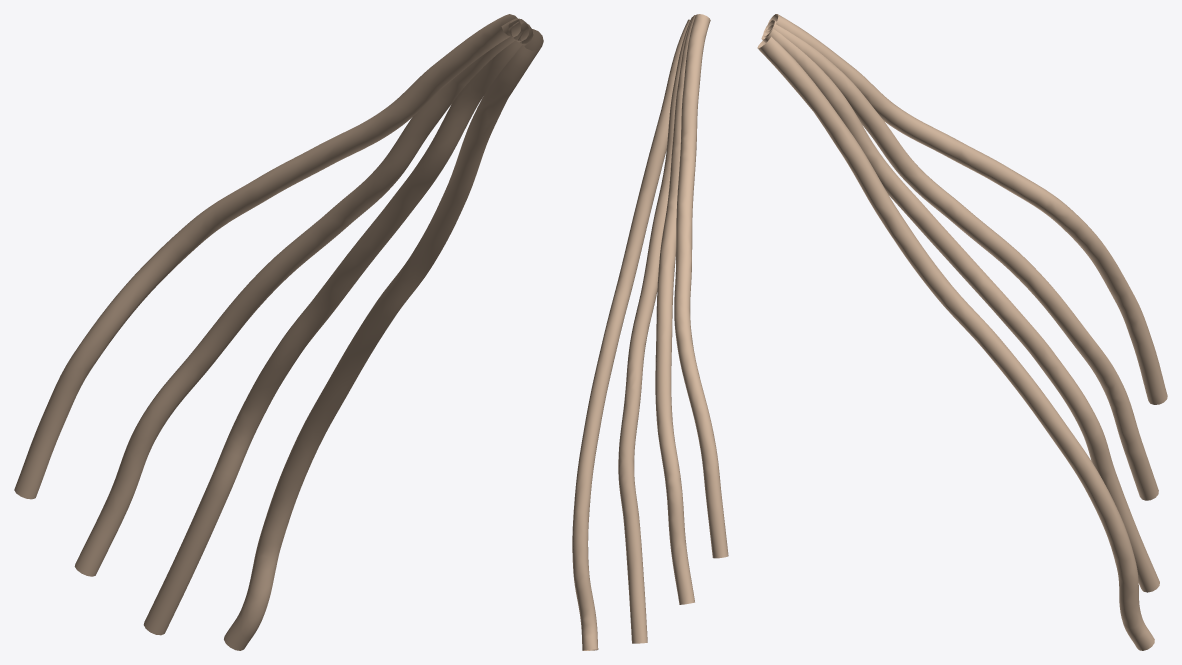
The picture shows the model from 3 angles, left to right: view 1: azimuth 30°, elevation 25°; view 2: azimuth 150°, elevation 25°; view 3: azimuth 270°, elevation 25°; orthographic projection. The views are drawn at different scales.
Parts seen in each view (by area): view 1: 右侧趾长伸肌腱; view 2: 右侧趾长伸肌腱; view 3: 右侧趾长伸肌腱.
Part boxes in pixels (<box>): 右侧趾长伸肌腱: <box>14,14,543,650</box>; 右侧趾长伸肌腱: <box>572,14,728,650</box>; 右侧趾长伸肌腱: <box>757,14,1167,650</box>.
Size of the model in its own units: 0.0841 by 0.2129 by 0.121.
